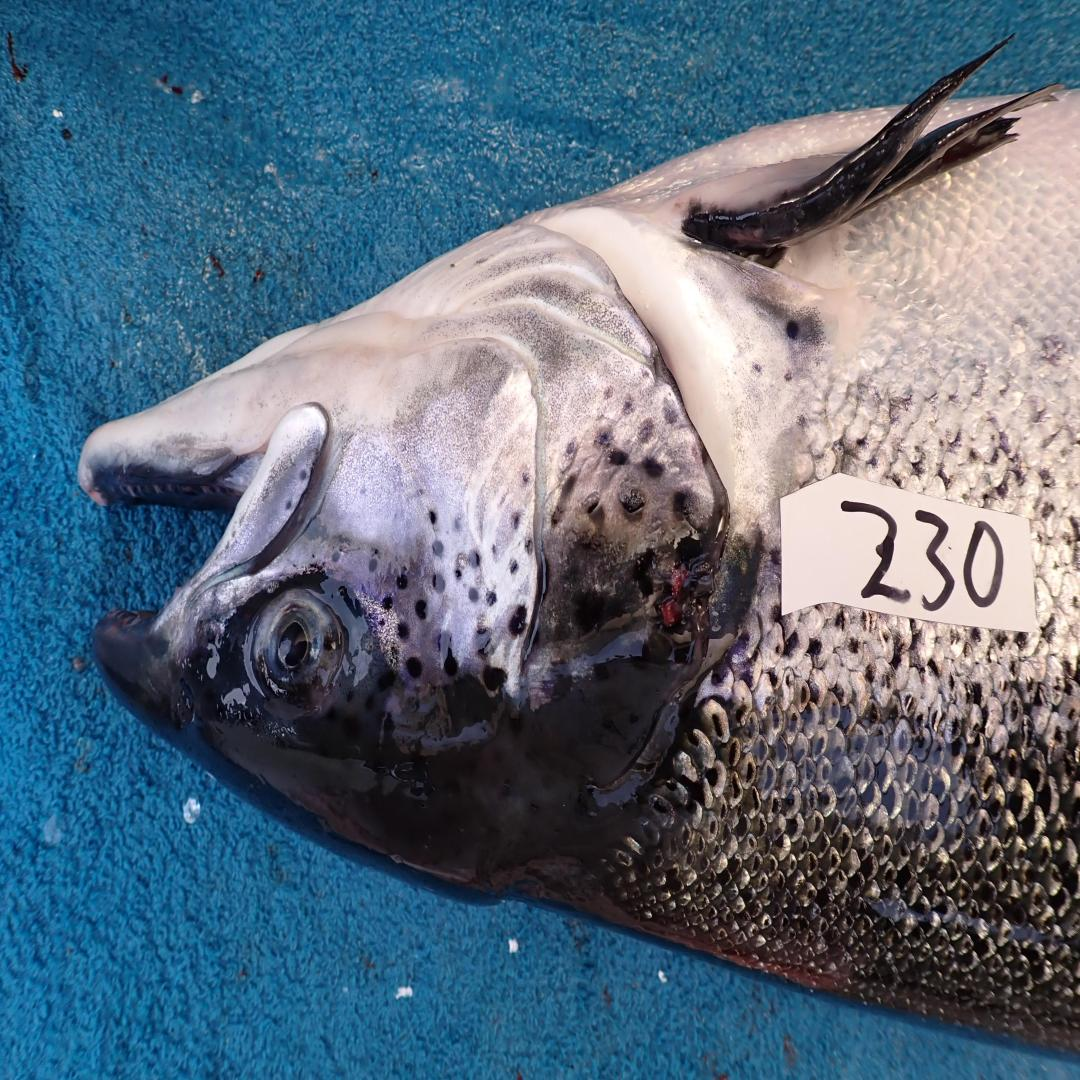spot: (538, 661, 574, 706), (551, 474, 577, 529), (575, 590, 604, 632), (634, 549, 655, 597), (439, 630, 458, 675), (662, 391, 683, 428), (676, 536, 702, 562), (620, 489, 645, 515), (508, 605, 527, 636), (472, 624, 491, 655), (483, 667, 506, 692), (595, 422, 614, 450), (673, 492, 692, 518), (637, 416, 654, 444), (643, 456, 664, 478), (586, 501, 605, 525), (508, 506, 527, 529), (523, 532, 538, 560), (466, 585, 483, 605), (610, 447, 629, 464), (407, 658, 422, 678), (466, 548, 481, 568), (622, 394, 635, 416), (601, 380, 616, 399), (506, 557, 519, 577), (432, 574, 445, 593), (432, 540, 445, 557), (485, 591, 498, 608), (416, 599, 426, 619), (428, 509, 439, 526), (397, 574, 407, 591), (382, 593, 392, 610), (399, 622, 409, 638), (368, 559, 378, 572), (564, 442, 574, 455), (332, 550, 342, 562), (453, 518, 460, 532), (455, 566, 462, 579), (522, 472, 529, 484)
